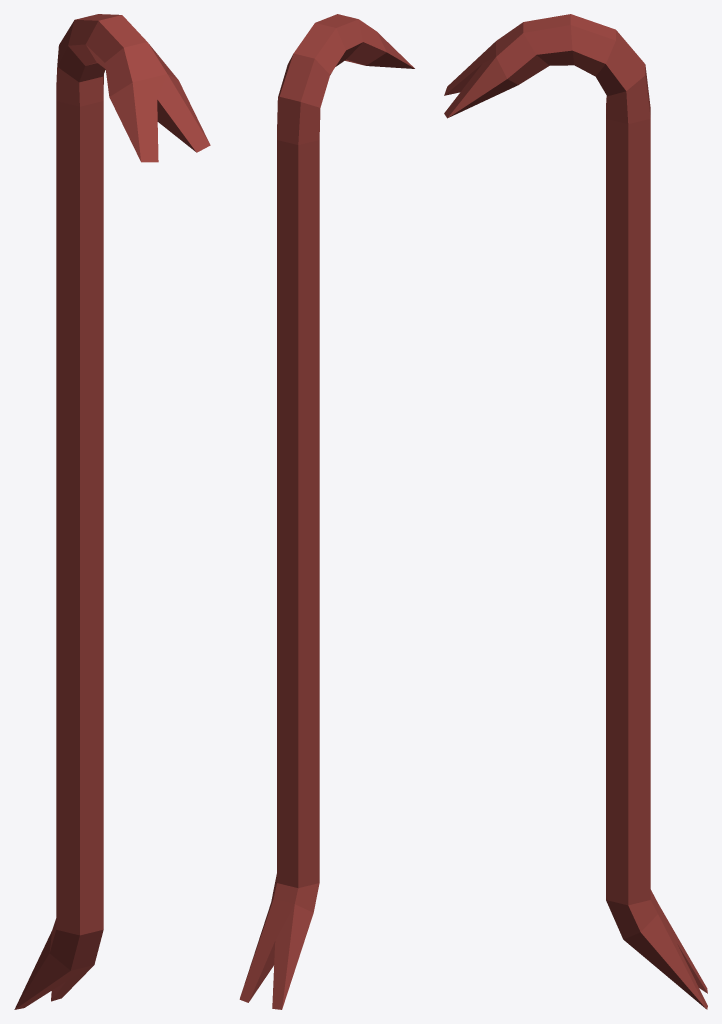
Rendered from LP_PostApoc_Circle_002.fbx.
3 views of the same model, side by side, from view 1: azimuth 30°, elevation 25°; view 2: azimuth 150°, elevation 25°; view 3: azimuth 270°, elevation 25° (orthographic). The views are drawn at different scales.
Parts seen in each view (by area): view 1: Circle.002; view 2: Circle.002; view 3: Circle.002.
Part boxes in pixels (bbox=[...]): Circle.002: bbox=[14, 14, 210, 1009]; Circle.002: bbox=[239, 14, 414, 1009]; Circle.002: bbox=[444, 14, 707, 1009].
Bounding box in the file's own units: 6.02 × 86.17 × 21.02.
